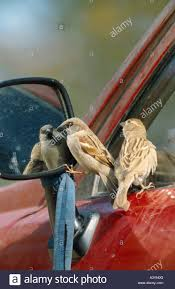home_sparrow: (47, 115, 117, 195), (114, 111, 161, 211)
